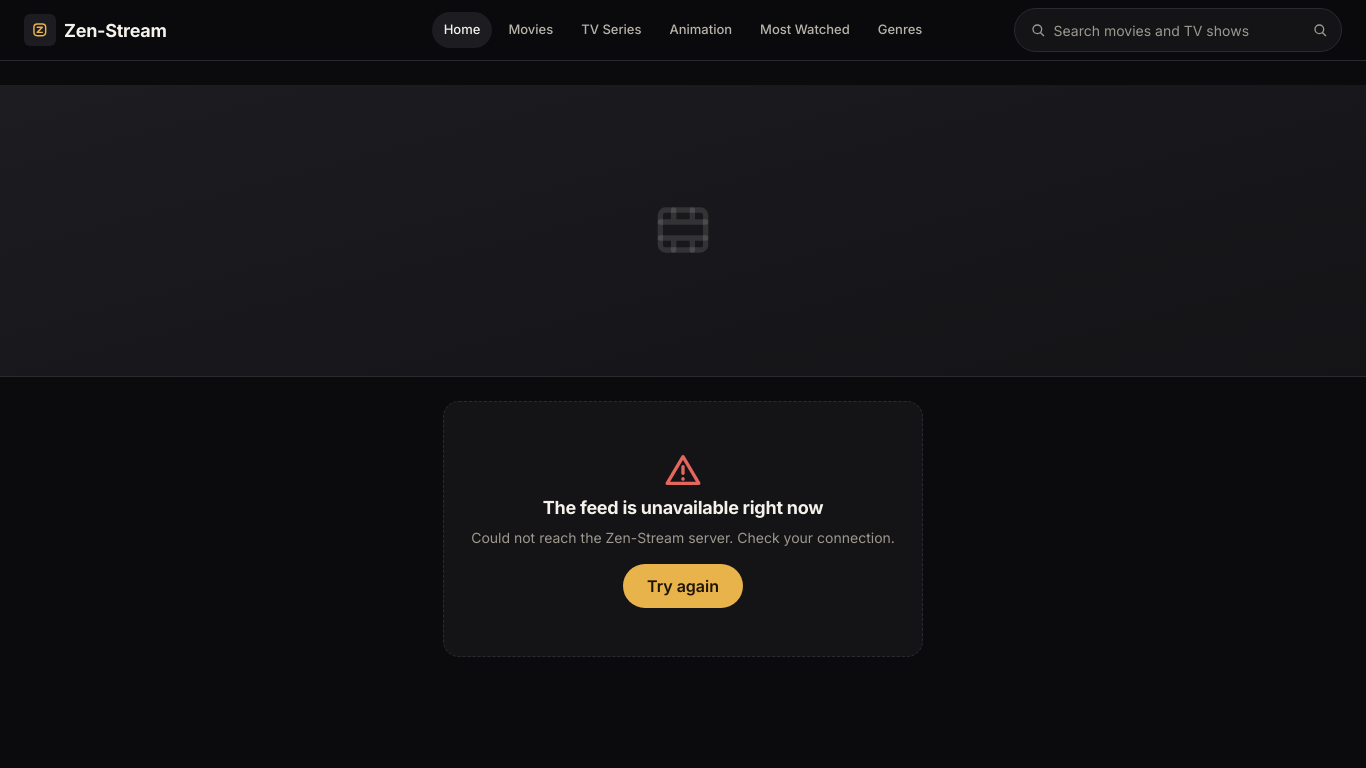
Test case: AppShell › exposes a desktop search field that submits to the search route
The image size is (1366, 768).
Type "avatar" into the search field labelled "Search movies and TV shows" at [1178, 30], box [1014,8,1342,52]
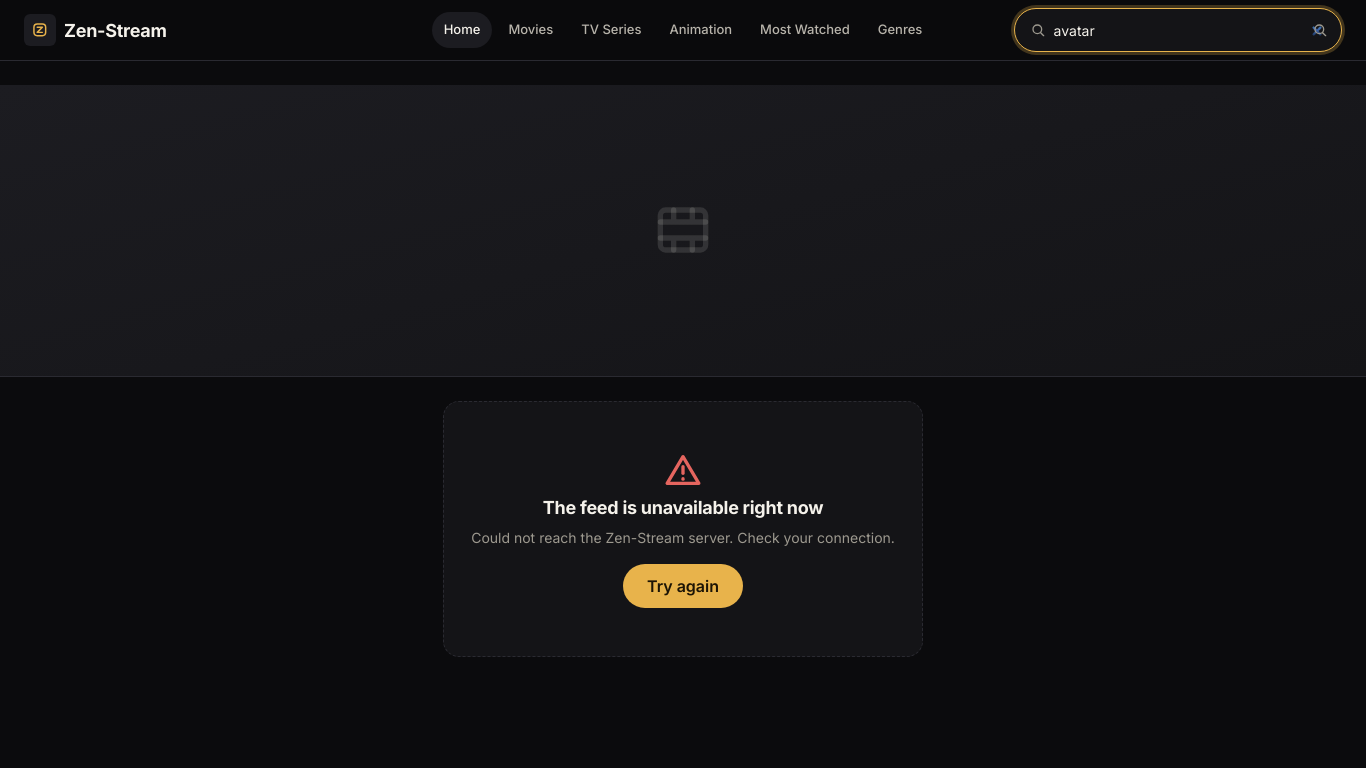
Click the button named "Search movies and TV shows" at [1320, 30], box [1302,12,1338,48]
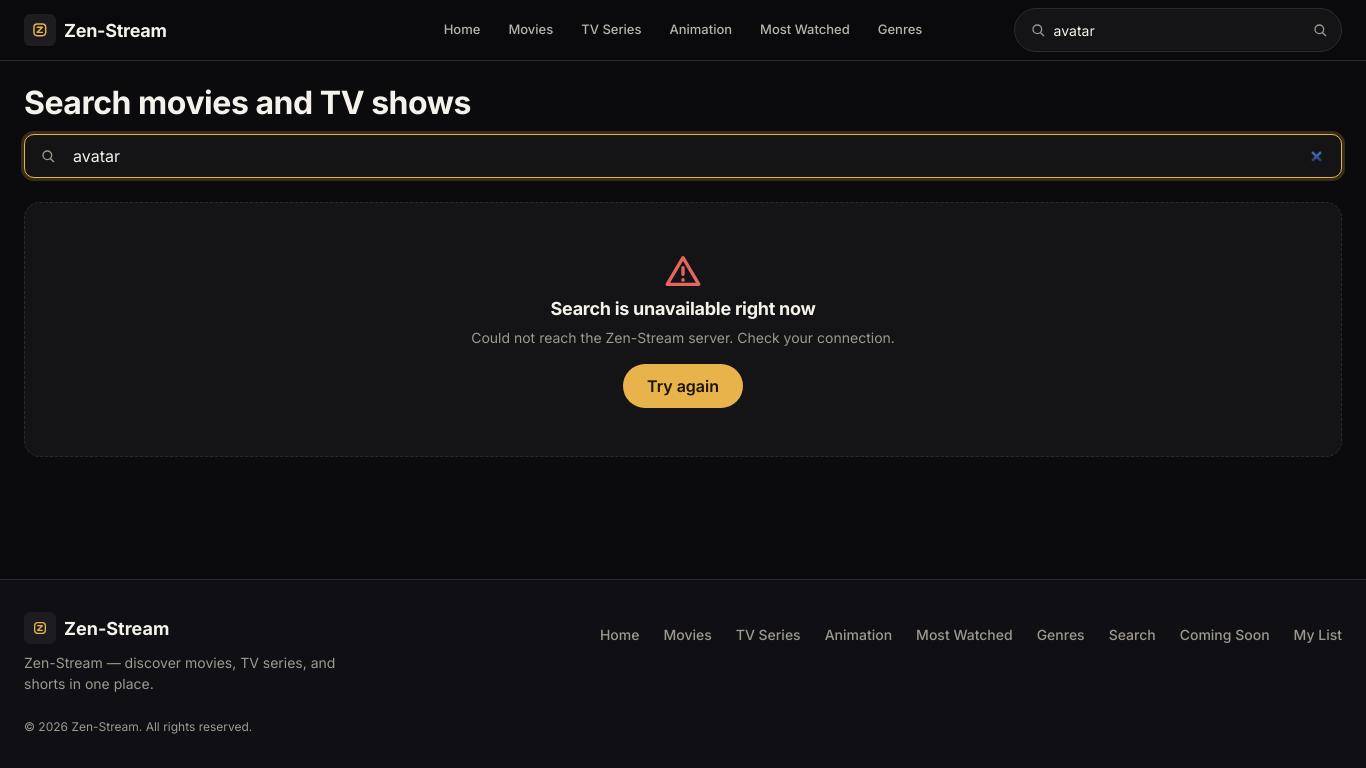
Expected: the heading "Search movies and TV shows" is shown, [24,83,471,122]
